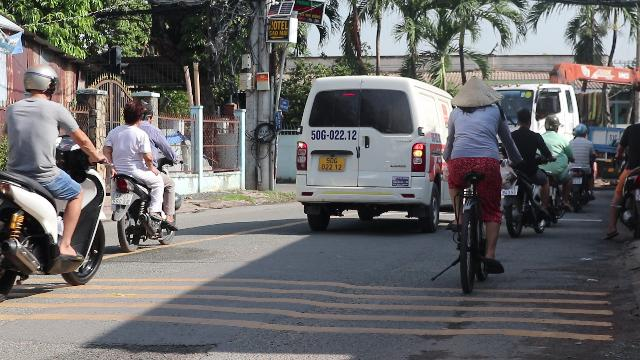helmet: (20, 64, 58, 98)
licenseplate: (111, 193, 132, 205), (501, 186, 517, 194)
motorcyclist: (0, 64, 110, 303), (100, 99, 180, 251), (502, 108, 558, 236)
nohelmet: (121, 101, 143, 125), (514, 108, 532, 128), (140, 102, 154, 122)
